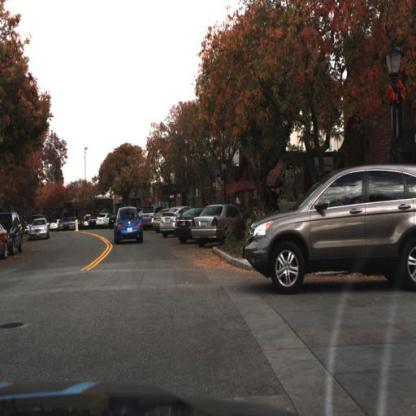car: (241, 160, 416, 293), (193, 204, 246, 249), (115, 201, 145, 246), (160, 201, 189, 238), (2, 212, 25, 256), (178, 204, 203, 230), (30, 218, 51, 241), (1, 225, 9, 262), (96, 212, 109, 228), (50, 220, 60, 233)
pedestrian: (234, 193, 243, 227)
